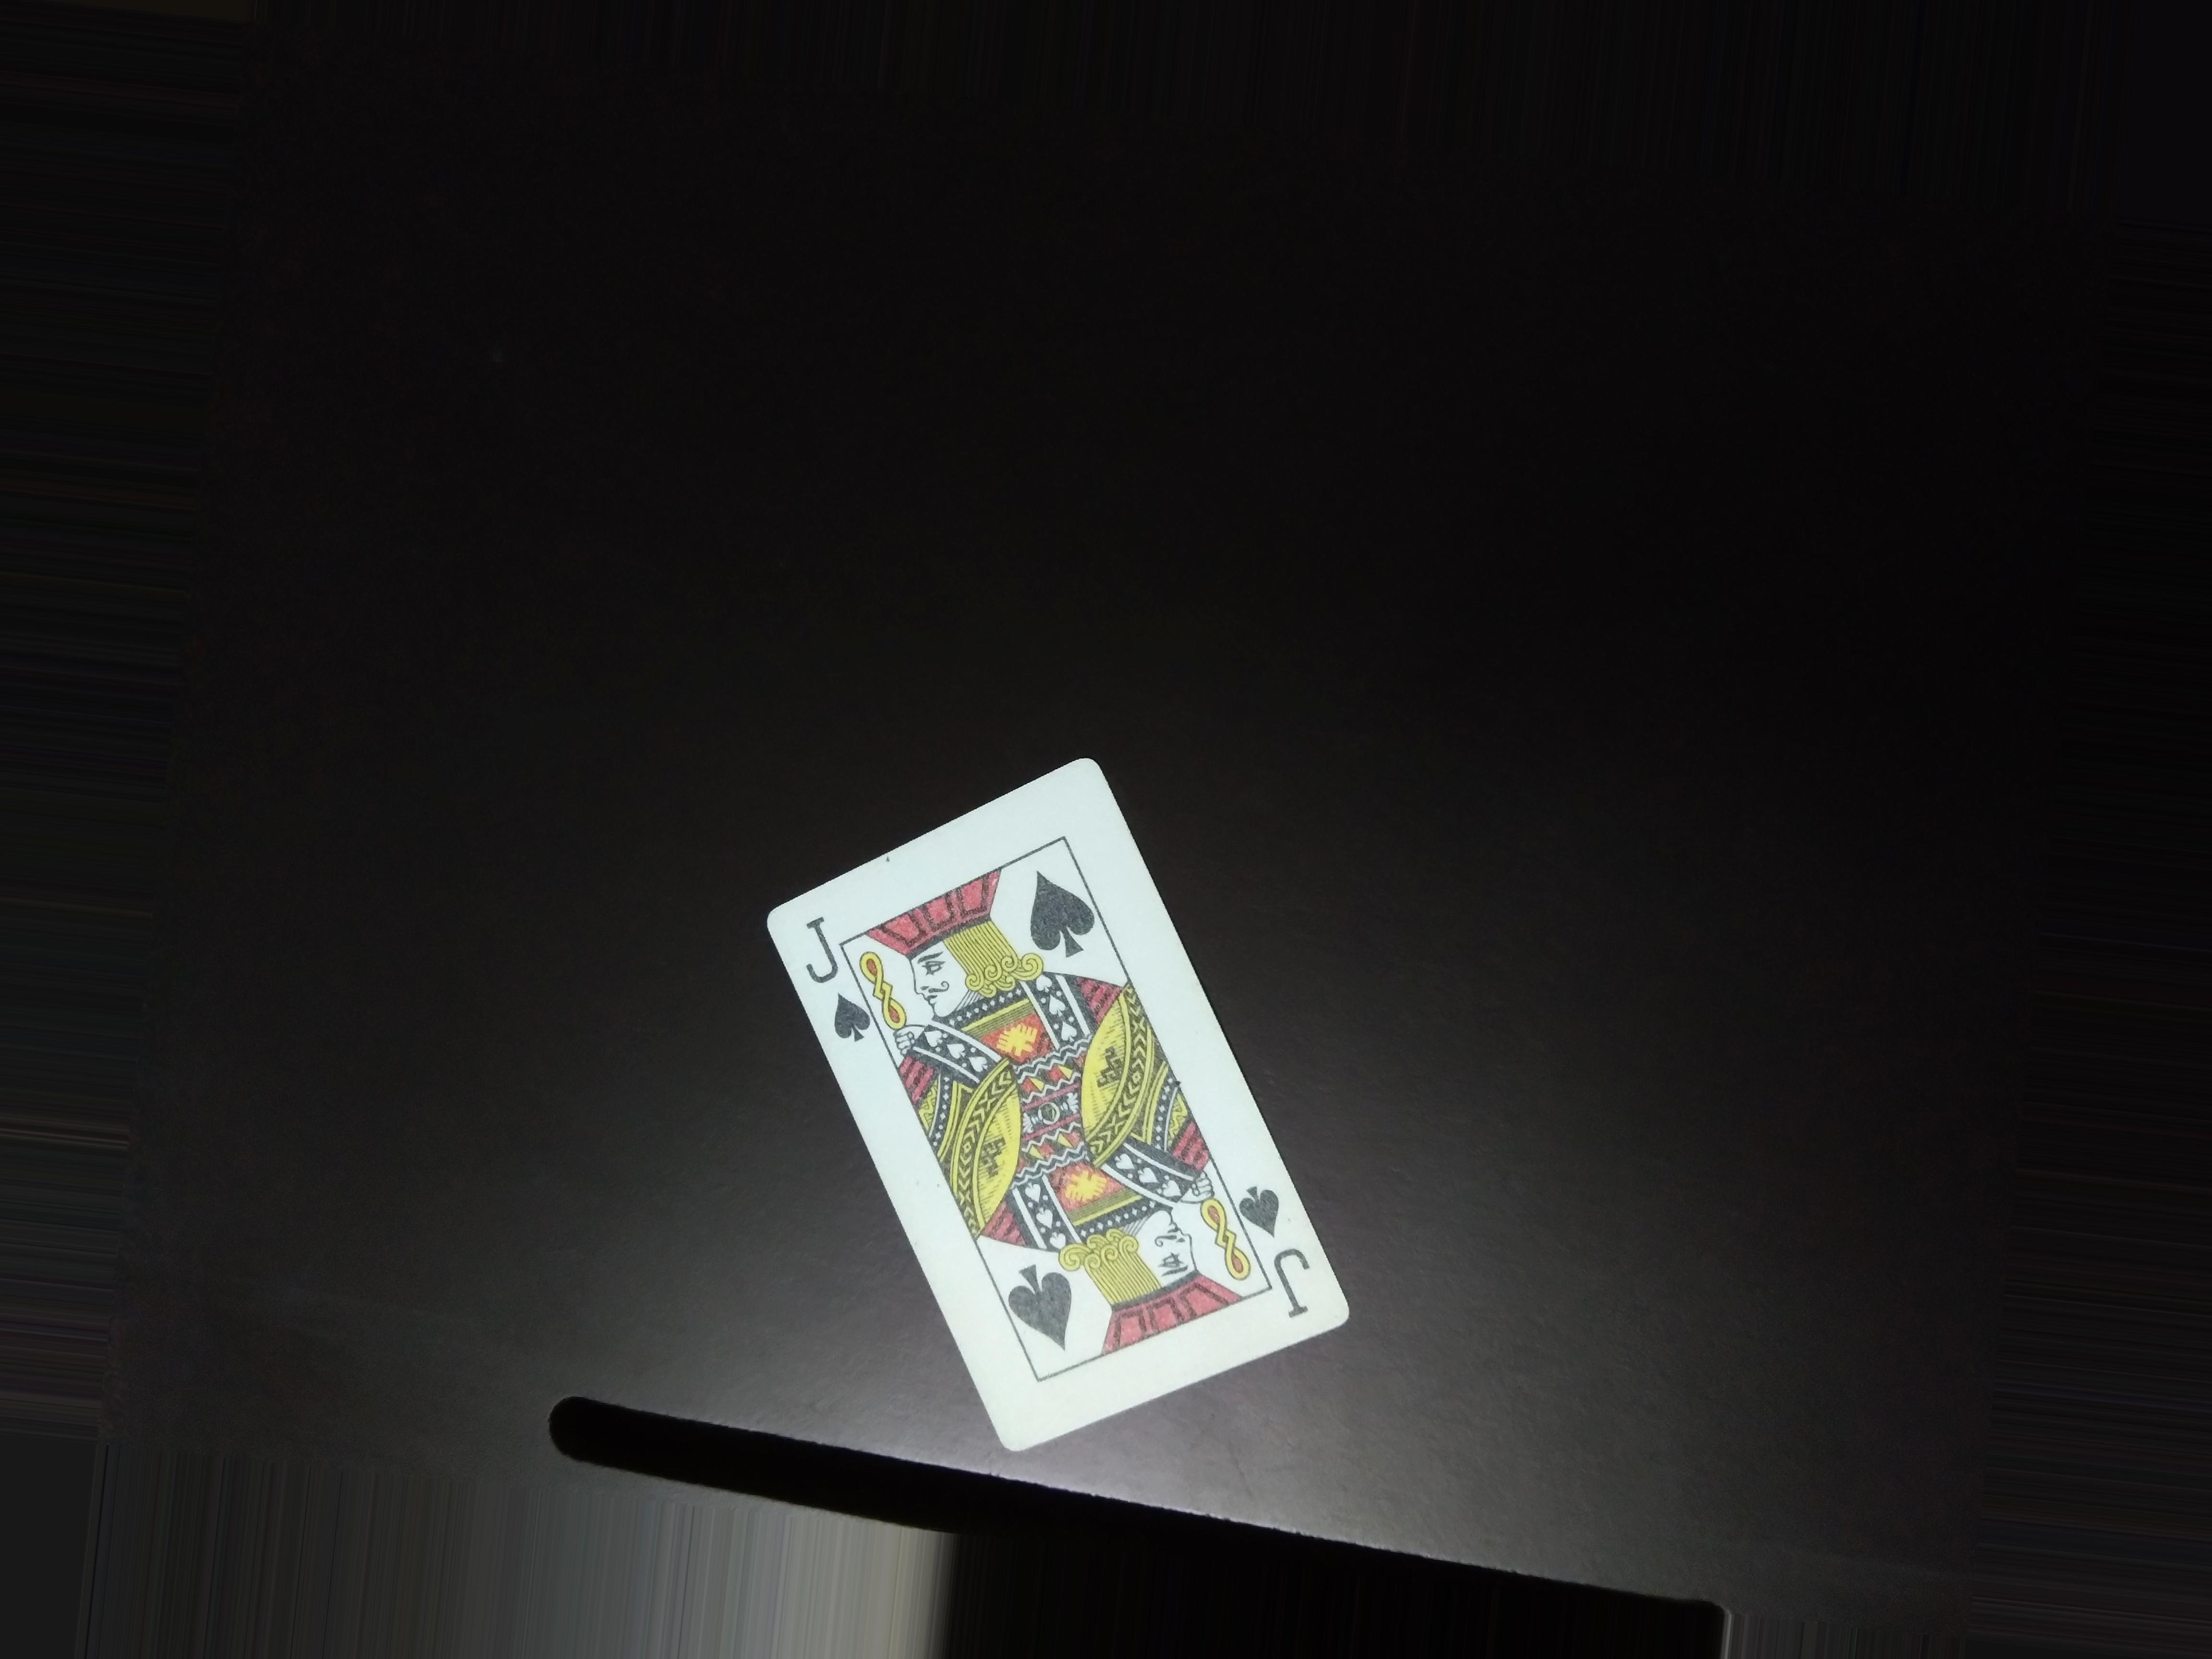JS: (805, 906, 866, 1072)
